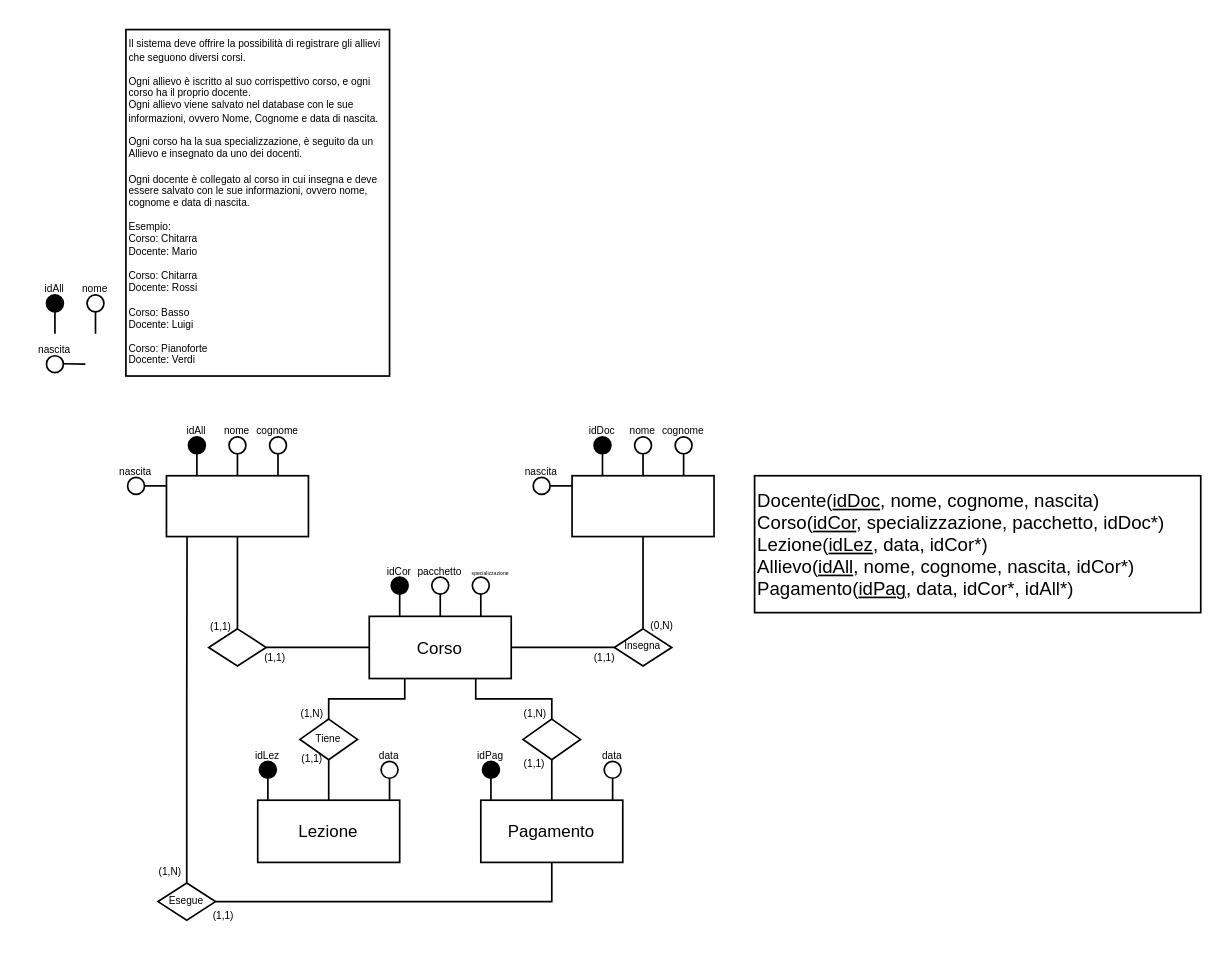
The diagram is 1230 pixels wide and 957 high, and some of its shapes have lost their labels. The shapes that lost their labels are listed below. From the top down, each one's centre as x and y in pixels, then its label:
At pixel 236 505: "Allievo".
At pixel 642 505: "Docente".
At pixel 236 646: "Segue".
At pixel 551 738: "Richiede".
